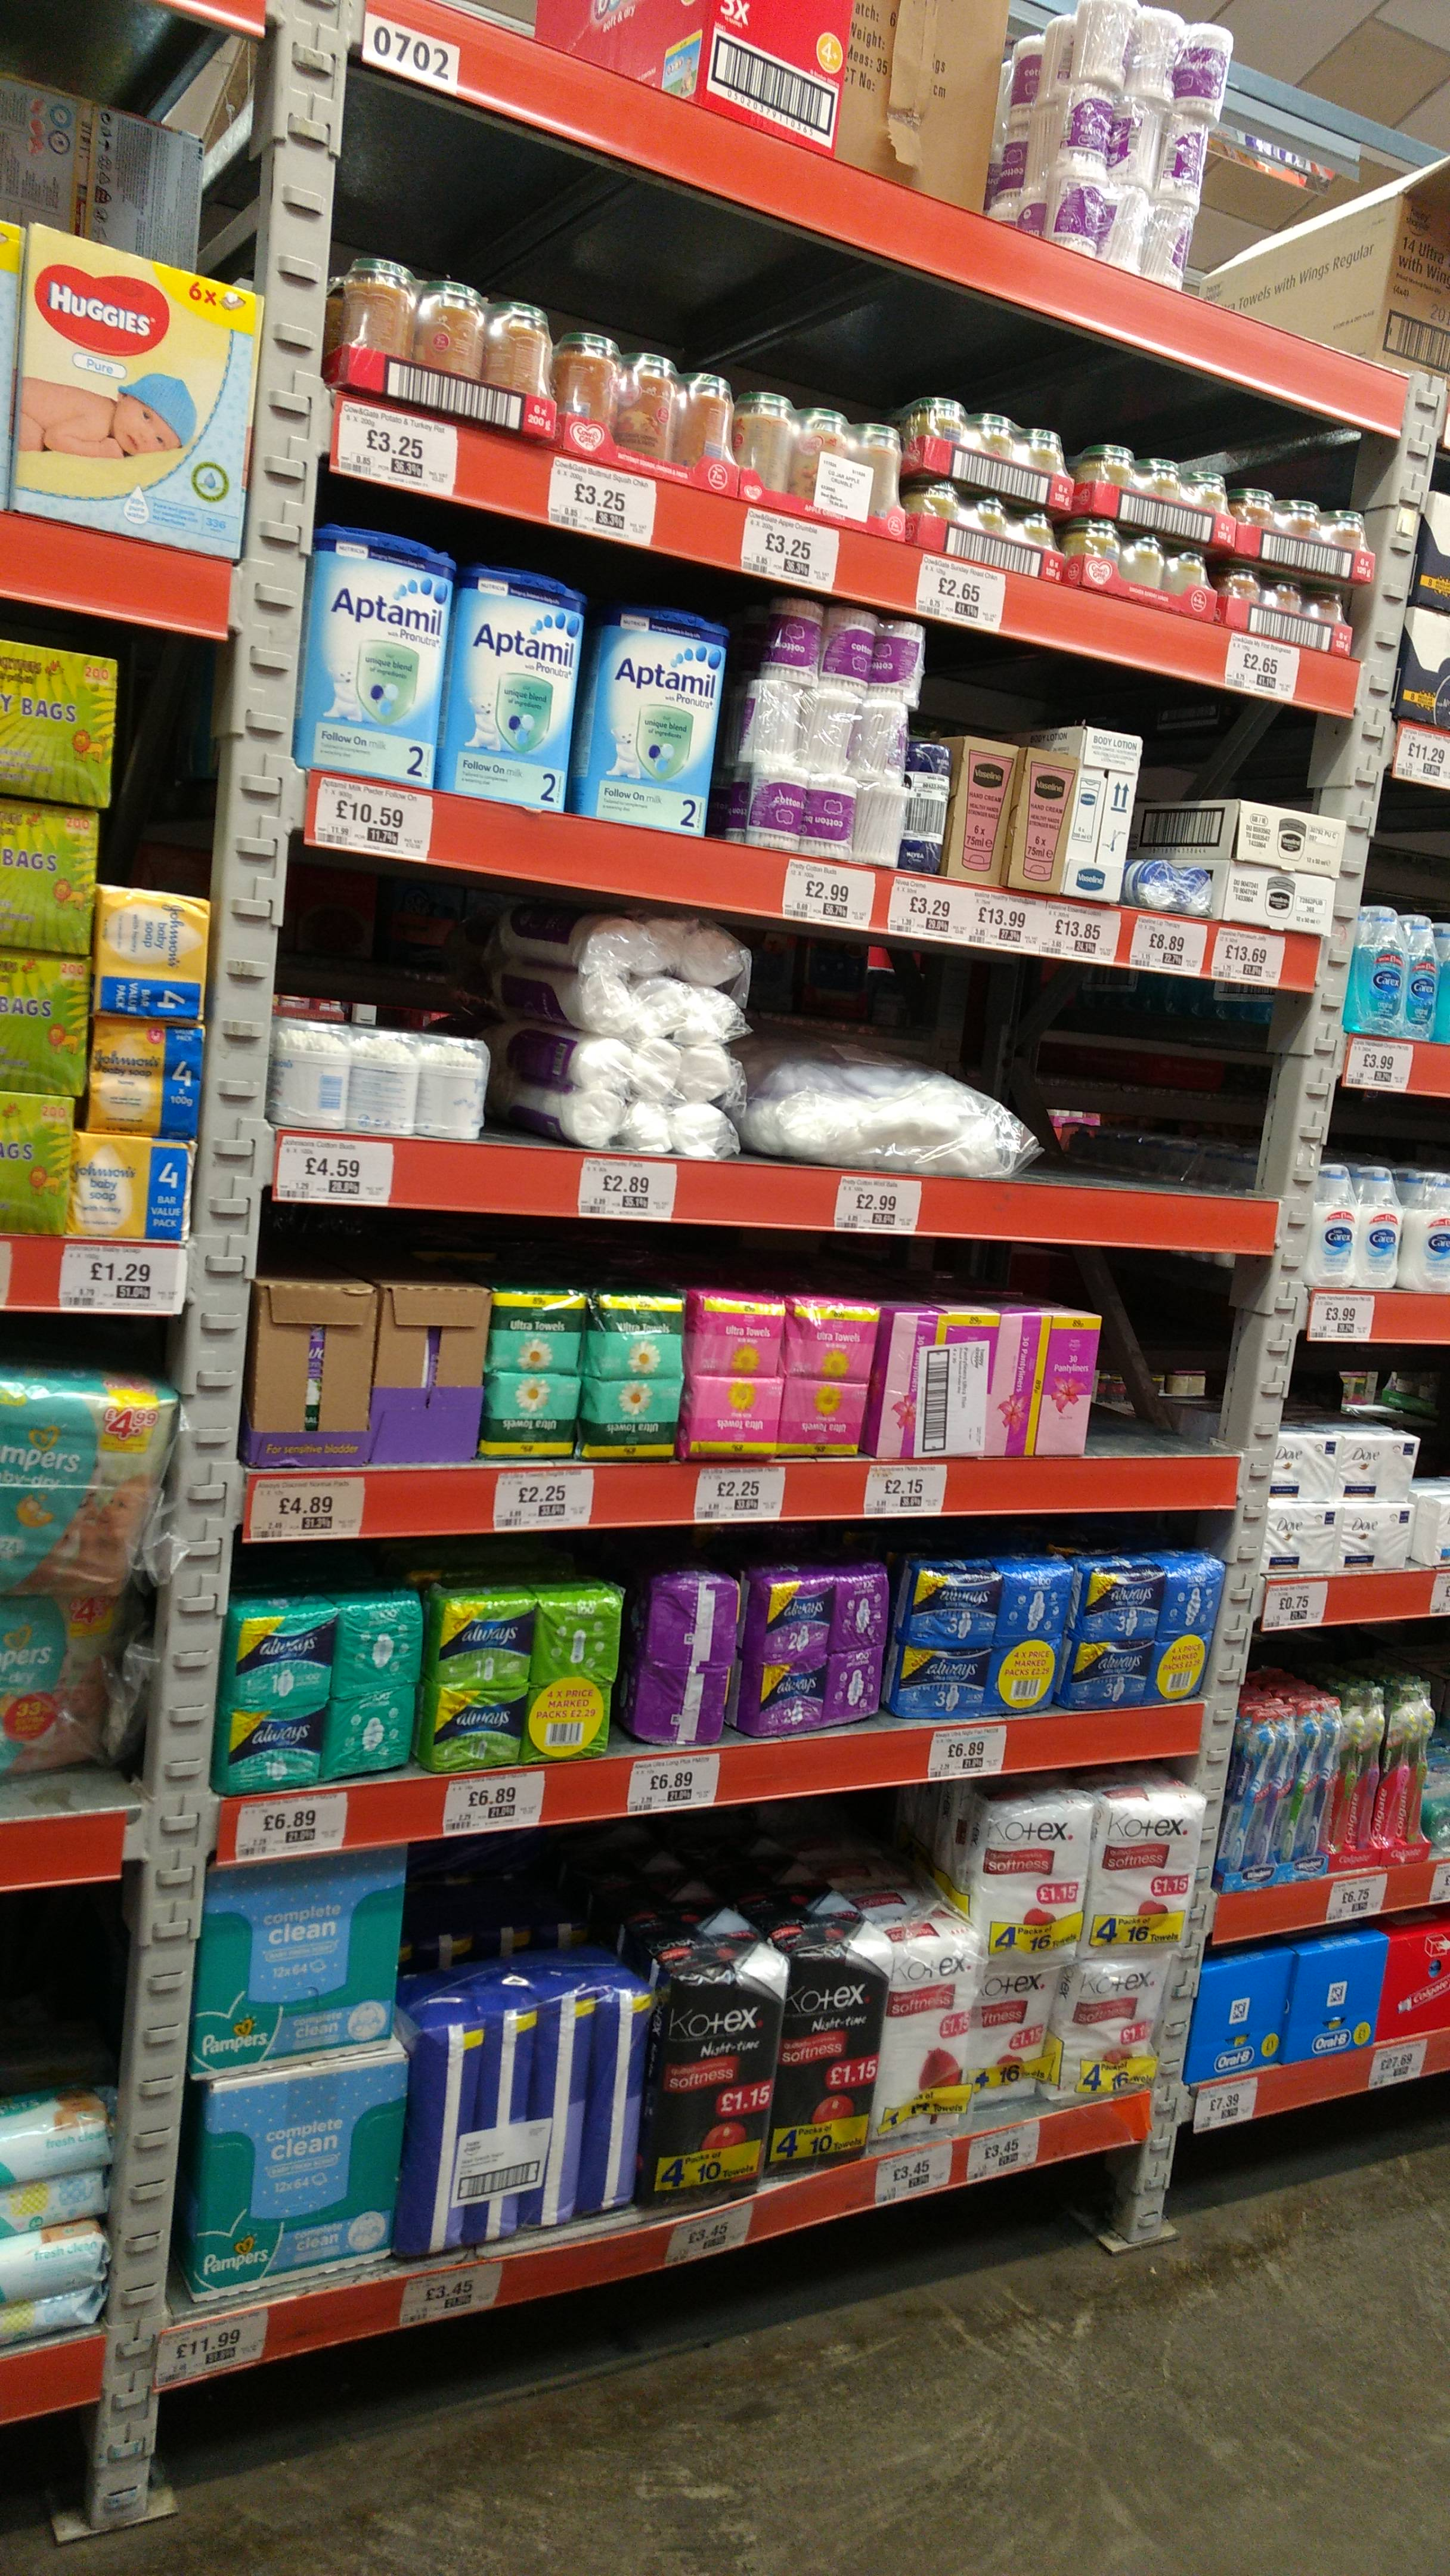Misplacement: (879, 1783, 976, 2150)
Out-of-stock: (1033, 982, 1277, 1203), (1082, 1315, 1234, 1460)
